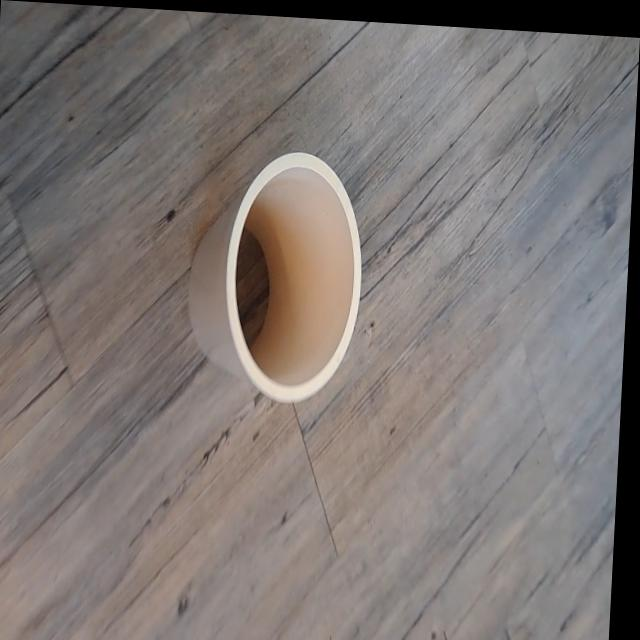CORAL: (167, 110, 377, 443)
